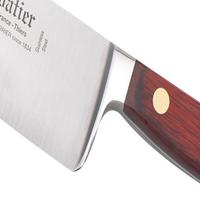knife: (2, 1, 197, 187)
